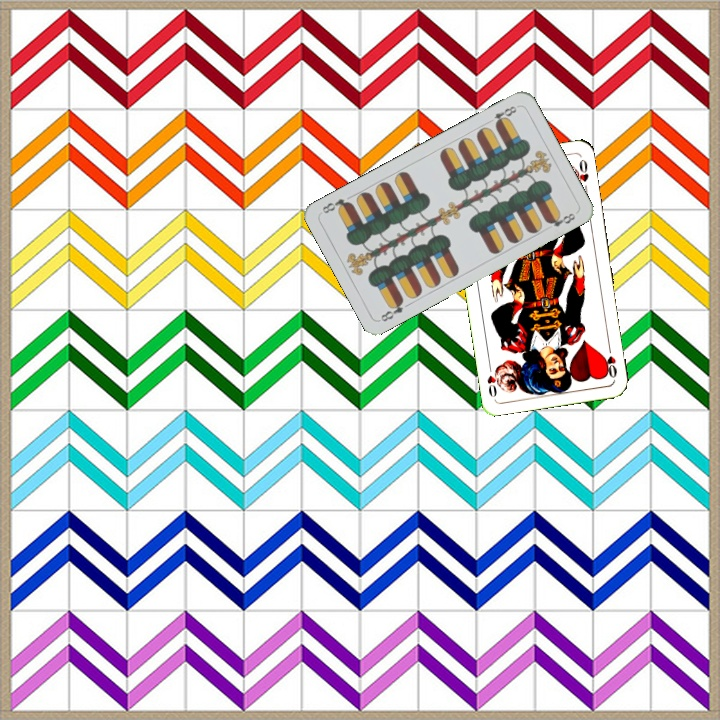E8: (376, 295, 406, 324), (489, 102, 521, 129)
HO: (600, 341, 620, 380)
